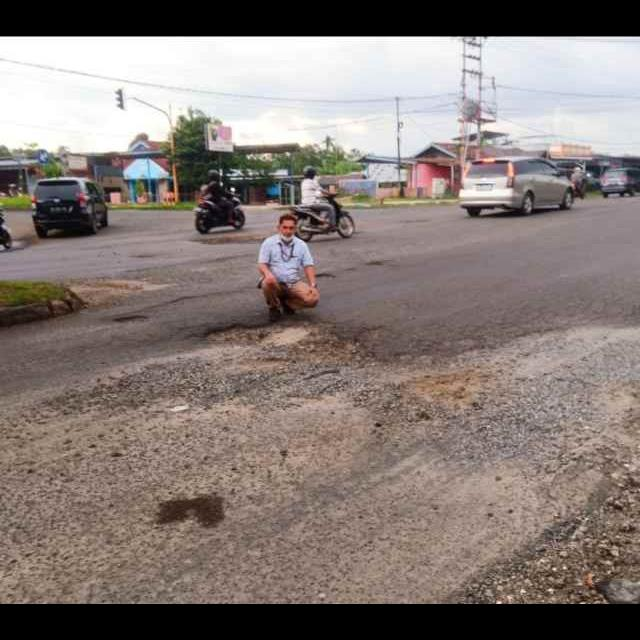lubang_kecil: (183, 308, 369, 381), (108, 301, 154, 341)
